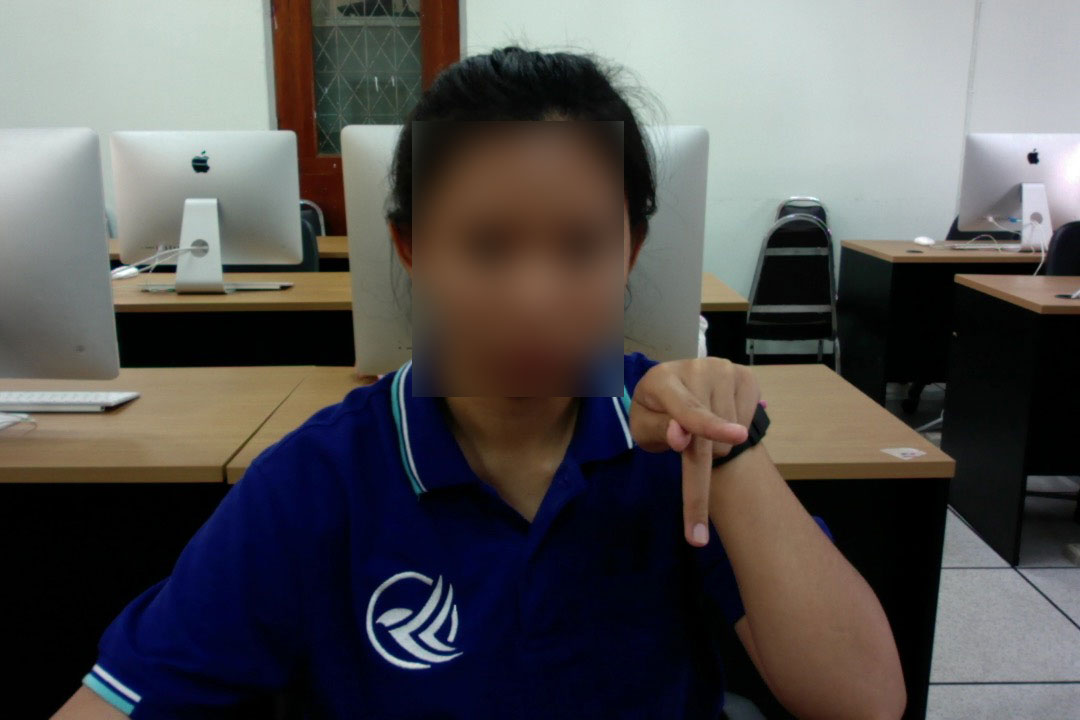por: (628, 342, 766, 551)
